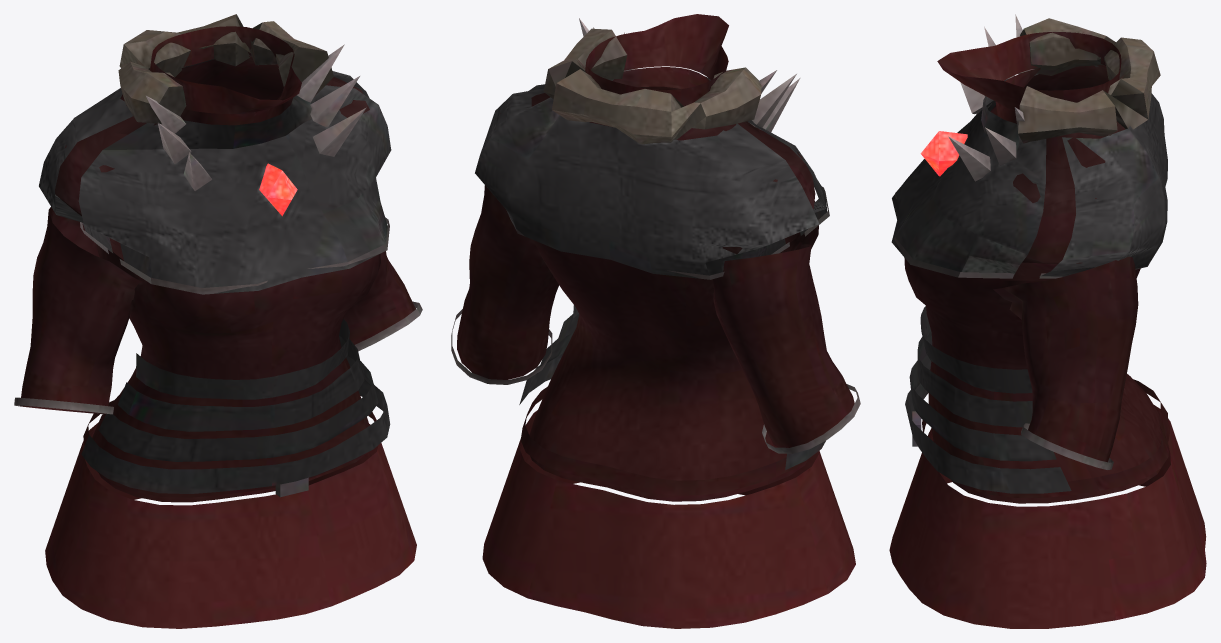
The model's file is Peitoral_de_Placas_nivel100.glb.
3 renders of one model, left to right at view 1: azimuth 30°, elevation 25°; view 2: azimuth 150°, elevation 25°; view 3: azimuth 270°, elevation 25°, orthographic.
Parts seen in each view (by area): view 1: peitoral_de_placas_nivel100; view 2: peitoral_de_placas_nivel100; view 3: peitoral_de_placas_nivel100.
Boxes of the visible parts, x1=… form: peitoral_de_placas_nivel100: x1=14, y1=14, x2=422, y2=628; peitoral_de_placas_nivel100: x1=451, y1=14, x2=860, y2=628; peitoral_de_placas_nivel100: x1=889, y1=14, x2=1206, y2=628.
Bounding box in the file's own units: 0.6157 × 0.7399 × 0.4298.
1 material, 1 textured.
